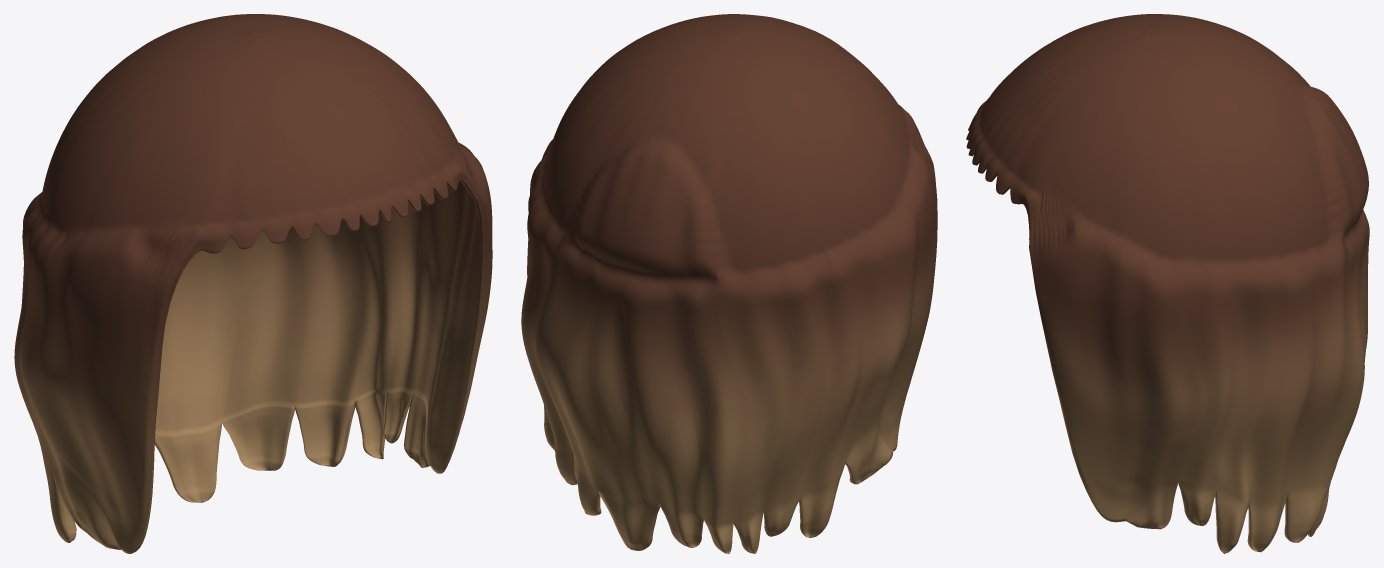
The model's file is long-cap-ombre.glb.
3 renders of one model, left to right at view 1: azimuth 30°, elevation 25°; view 2: azimuth 150°, elevation 25°; view 3: azimuth 270°, elevation 25°, orthographic. The views are drawn at different scales.
Parts seen in each view (by area): view 1: Hair / rounded long fringe; view 2: Hair / rounded long fringe; view 3: Hair / rounded long fringe.
Part boxes in pixels (<box>): Hair / rounded long fringe: <box>14,14,492,553</box>; Hair / rounded long fringe: <box>521,14,937,553</box>; Hair / rounded long fringe: <box>966,14,1369,553</box>.
Size of the model in its own units: 0.8534 by 1.04 by 0.7751.
